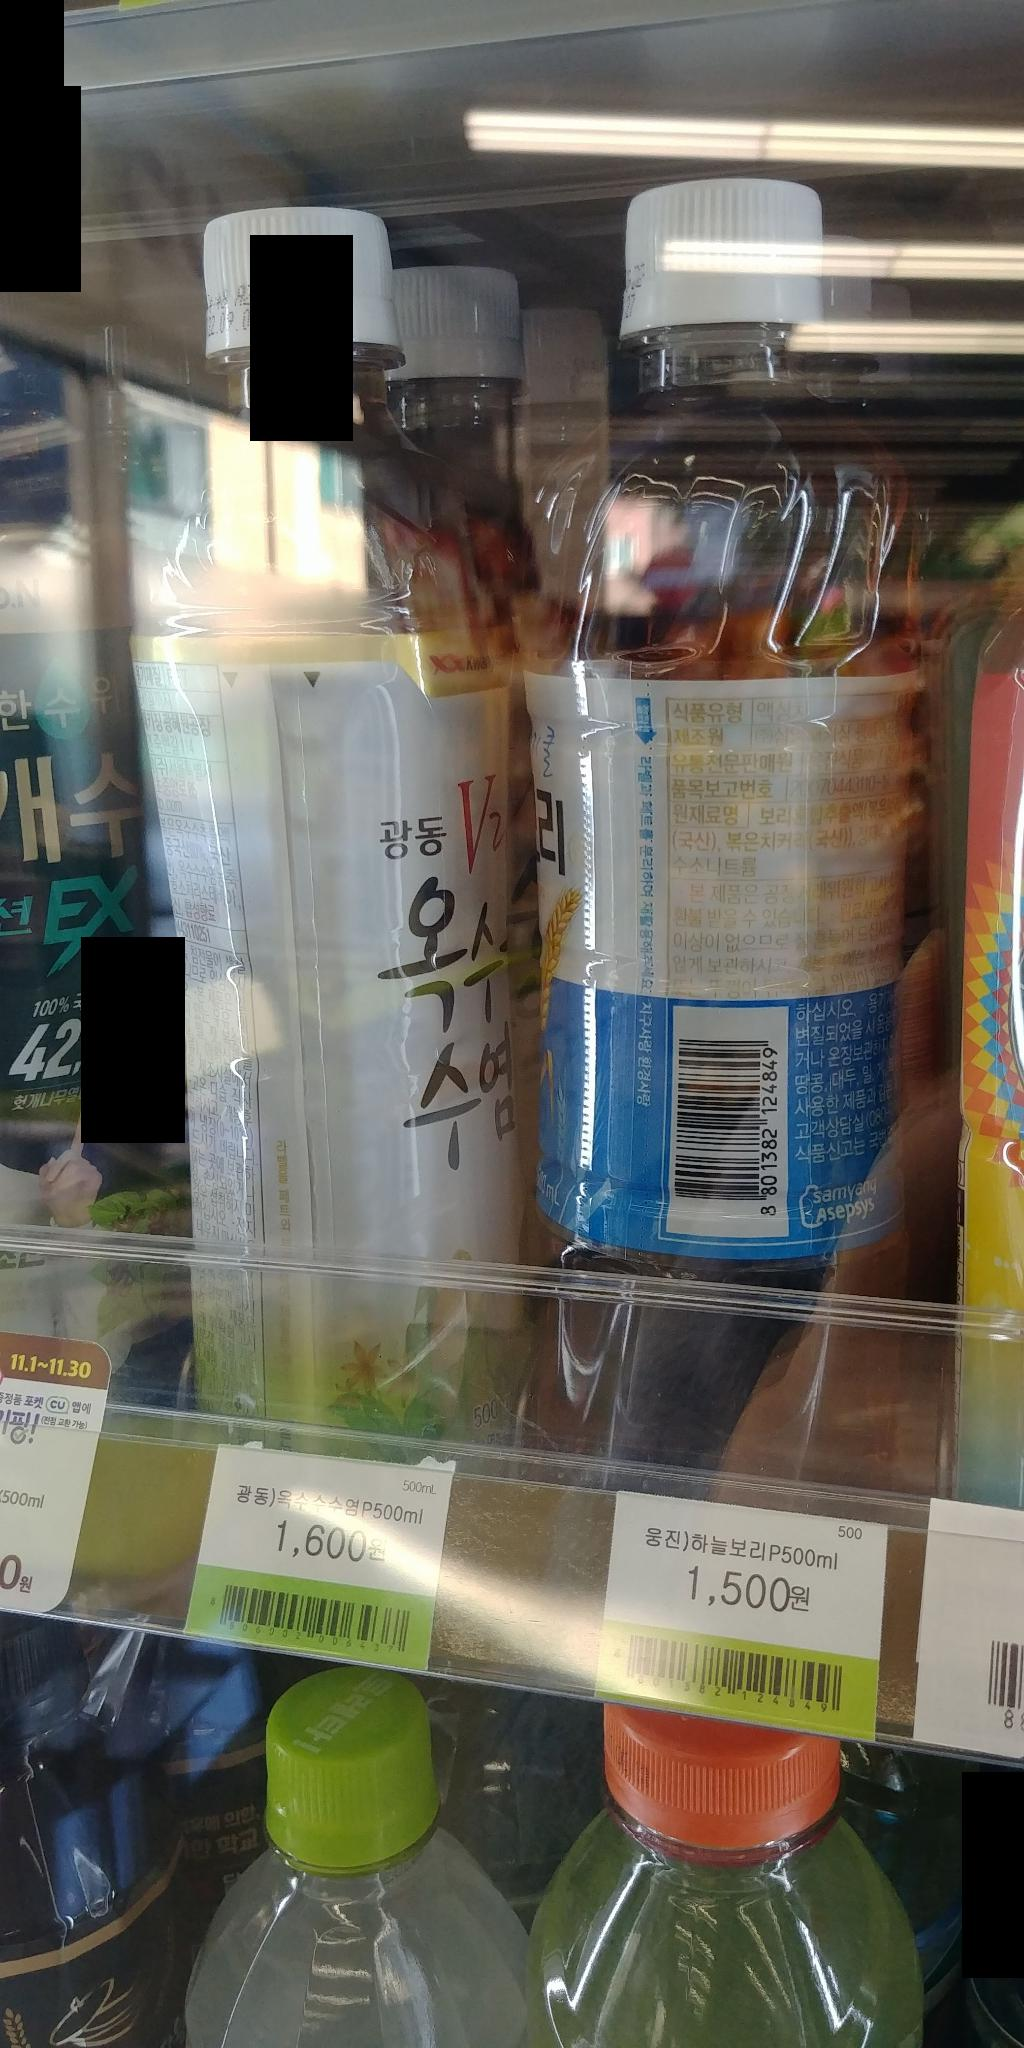haneulbori: (503, 153, 933, 1473)
oksususuyeomcha: (116, 205, 546, 1459)
